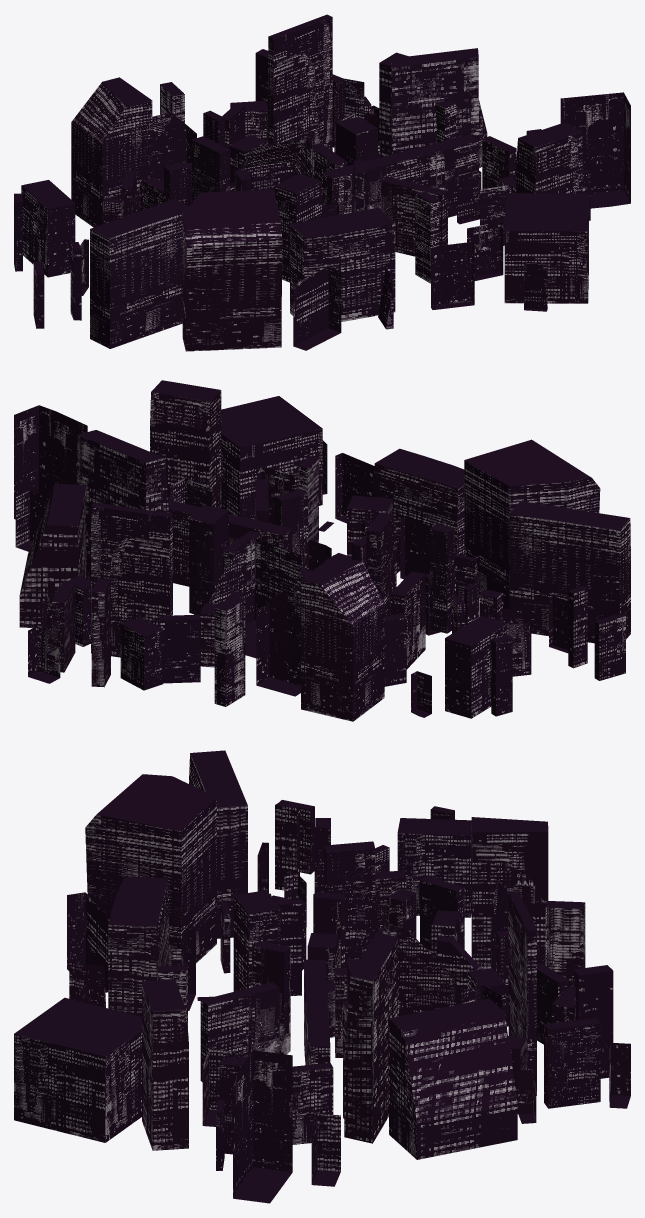
Rendered from slopccityexp.glb.
3 renders of one model, top to bottom at view 1: azimuth 30°, elevation 25°; view 2: azimuth 150°, elevation 25°; view 3: azimuth 270°, elevation 25°, orthographic. The views are drawn at different scales.
Parts seen in each view (by area): view 1: Cube.001; view 2: Cube.001; view 3: Cube.001.
Part boxes in pixels (x1,y1,x2,y2): Cube.001: (14, 14, 630, 351); Cube.001: (14, 380, 630, 721); Cube.001: (14, 750, 630, 1203).
Bounding box in the file's own units: 147 × 33.43 × 113.
1 material, 1 textured.
